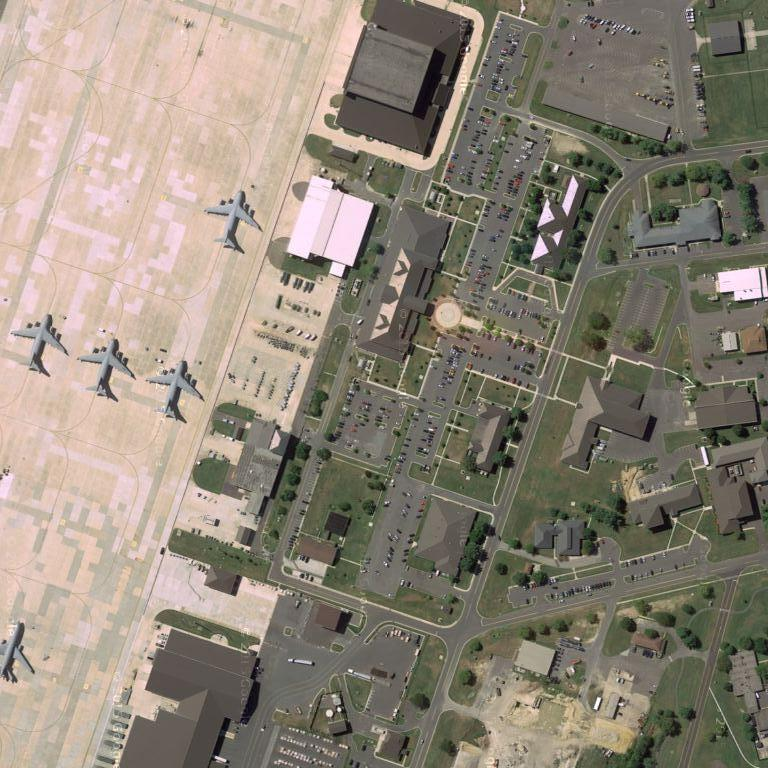C-17: (143, 354, 210, 425), (203, 185, 264, 256), (78, 335, 135, 407), (11, 312, 68, 381)
KC-10: (1, 618, 39, 686)
